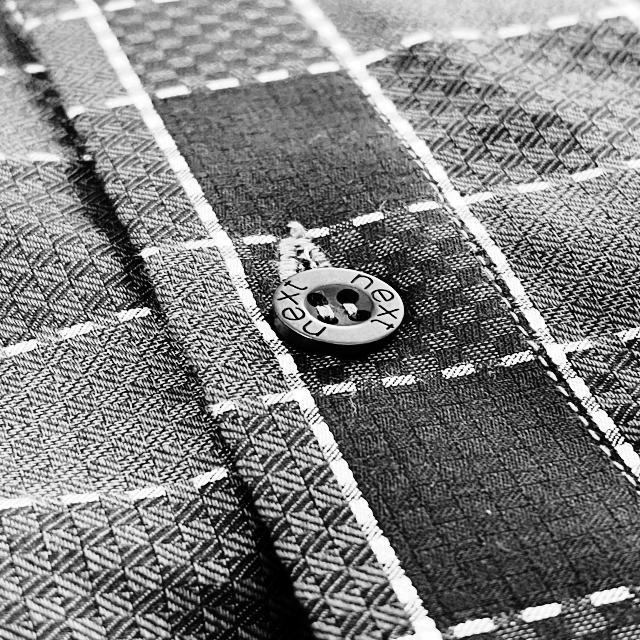Button_hike: (258, 214, 423, 356)
